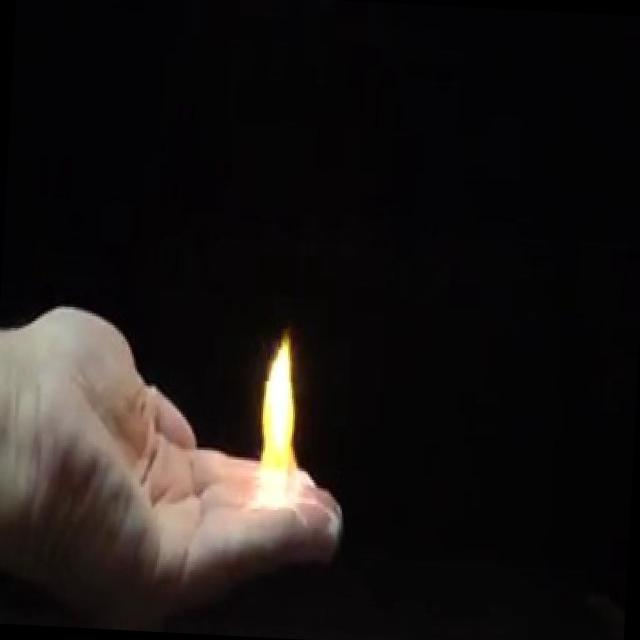Fire: (246, 295, 314, 530)
